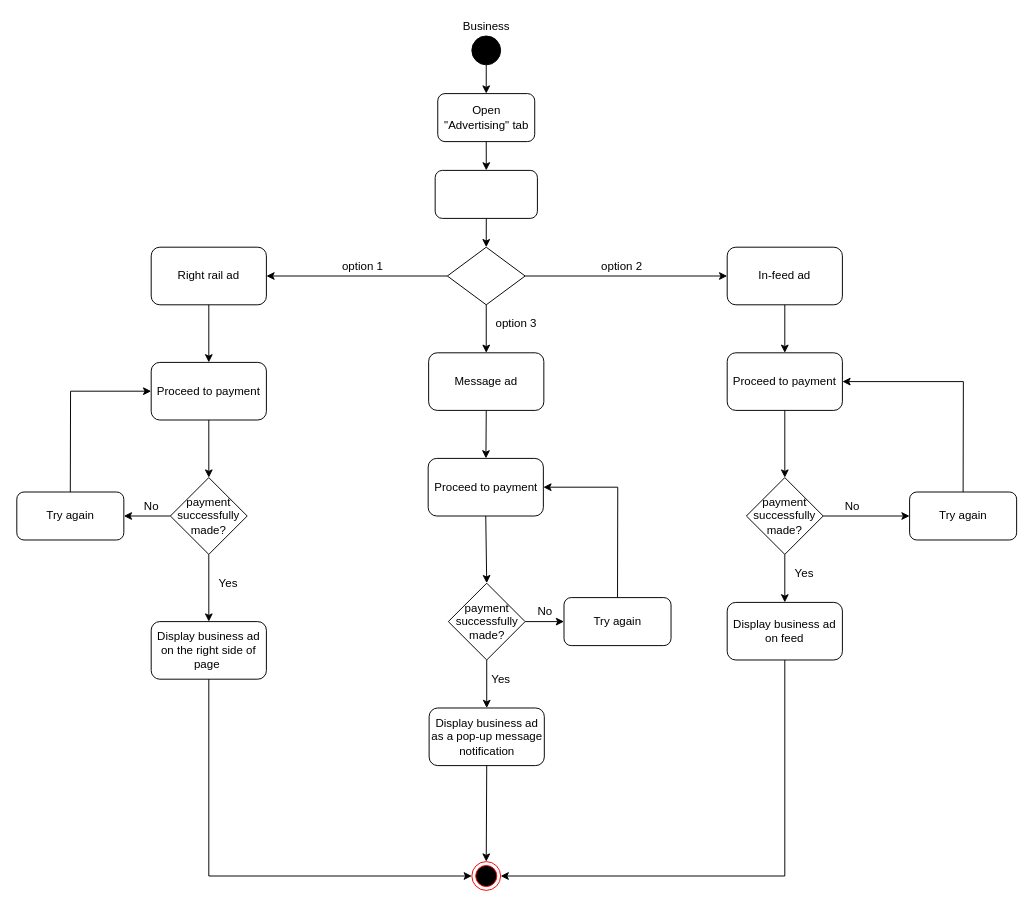
Image size: 1034x907. Some labels were removed from this diagram. Here are the shapes that lost their labels. From the top down, the centre of each, then its label:
At [485,193]: "Select type of advertising".
At [485,275]: "Types of advertising".
